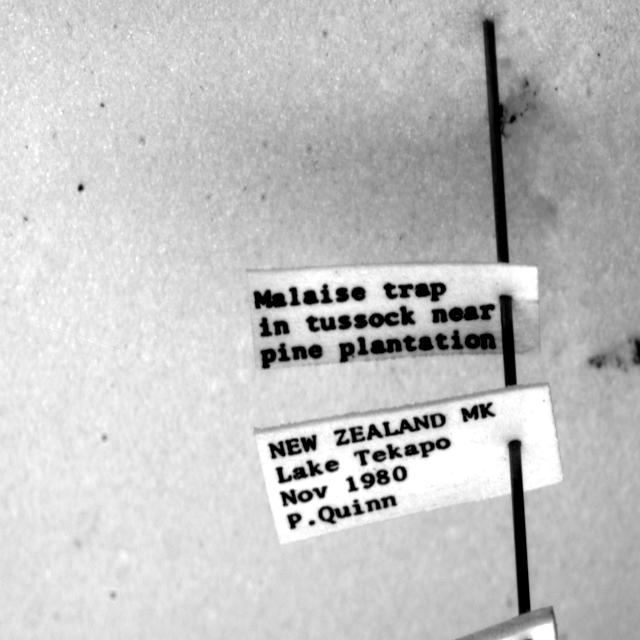typed_label: (255, 384, 562, 544), (248, 262, 540, 368)
